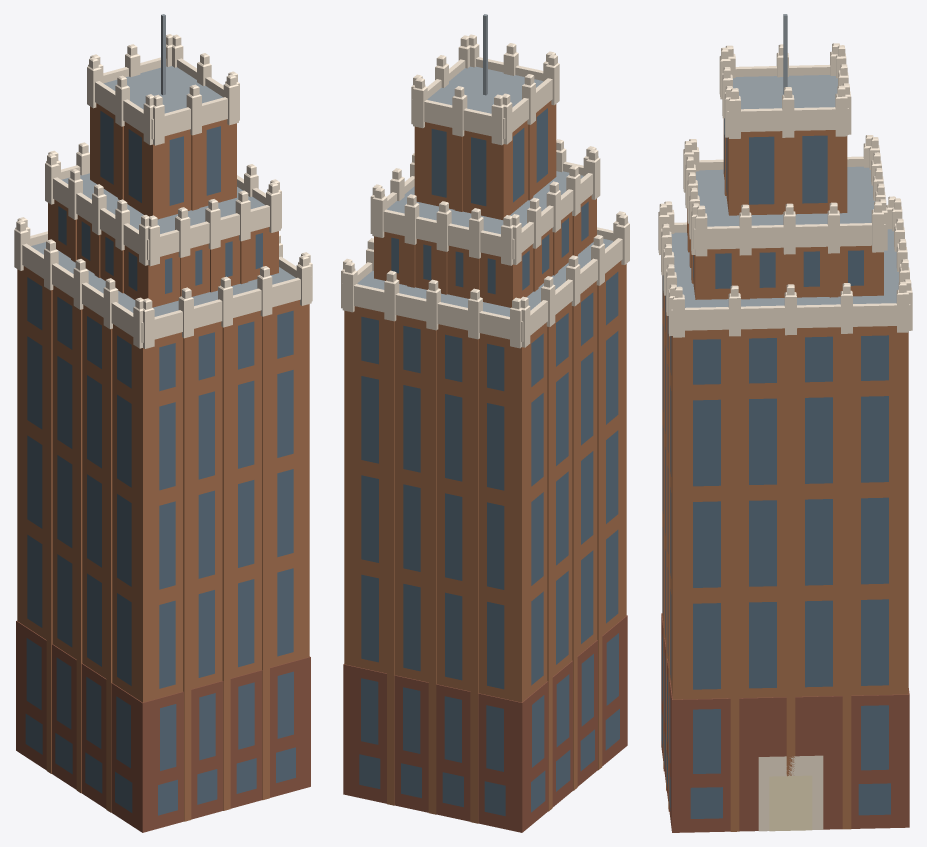
File: niagara-united-office-building.glb
The picture shows the model from 3 angles, left to right: view 1: azimuth 30°, elevation 25°; view 2: azimuth 150°, elevation 25°; view 3: azimuth 270°, elevation 25°; orthographic projection. The views are drawn at different scales.
Visible parts, largest first — view 1: United Office Building; view 2: United Office Building; view 3: United Office Building.
Part boxes in pixels (x1,y1,x2,y2): United Office Building: (14,14,312,832); United Office Building: (341,14,629,832); United Office Building: (658,14,912,832).
Bounding box in the file's own units: 20.72 × 79 × 23.56.
